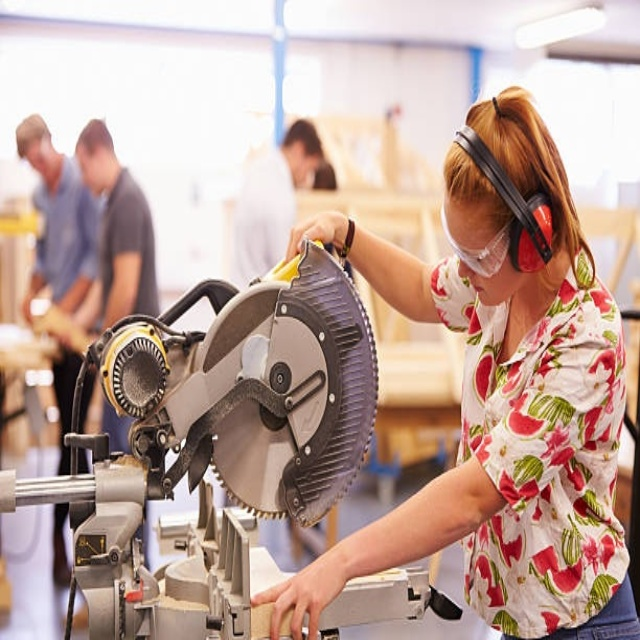Gafas: (442, 198, 514, 279)
Sin_guantes: (248, 554, 343, 640), (289, 210, 355, 263)
Sin_mascara: (460, 270, 499, 309)
